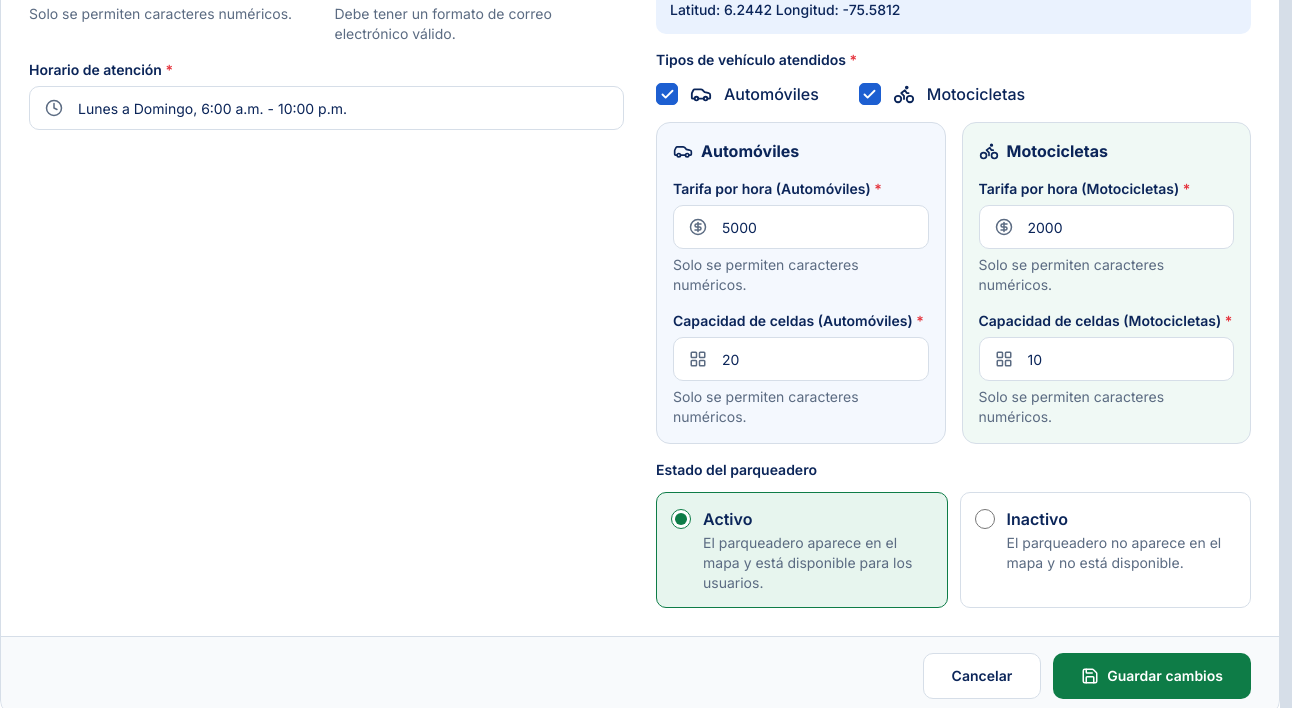
Test: EditParking › un guardado parcial recarga los datos y muestra el aviso
(page scrolled)
Click the button "Guardar cambios" at point(1152, 676), box [1053, 653, 1251, 699]
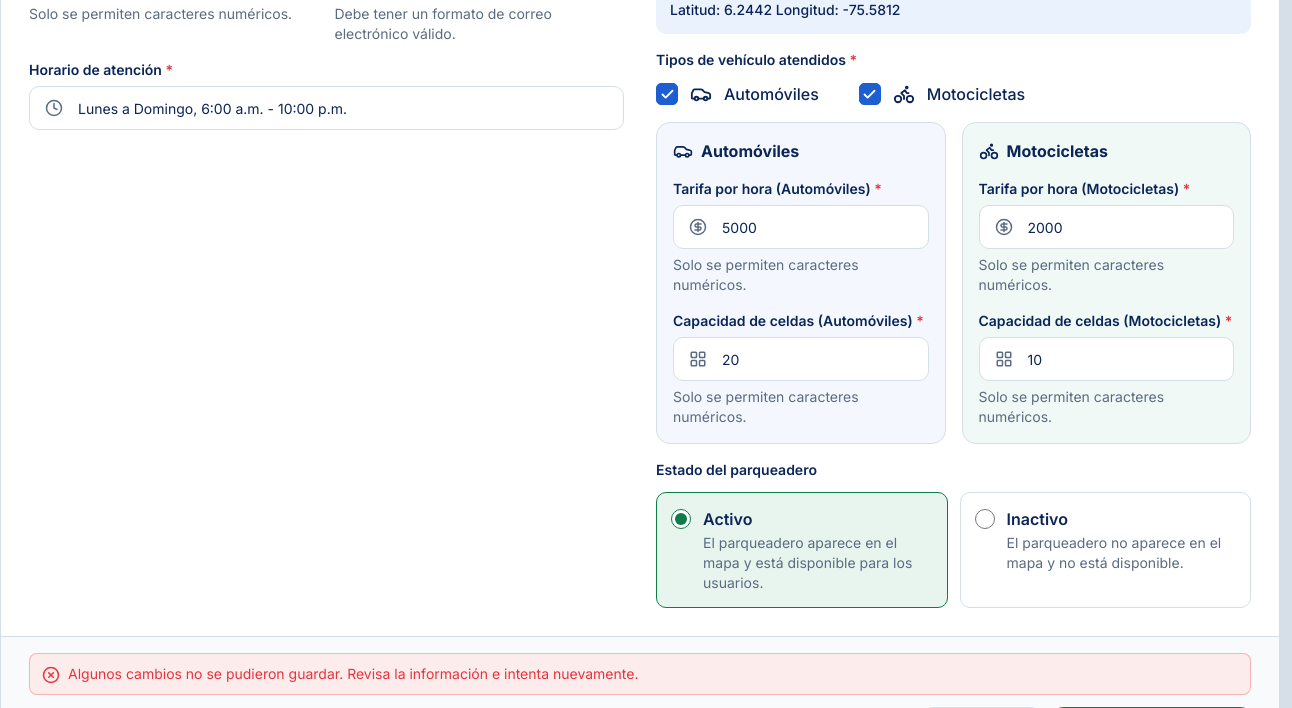
Check: the text "Algunos cambios no se pudieron guardar. Revisa la información e intenta nuevamente." is shown, box [68, 665, 638, 682]
